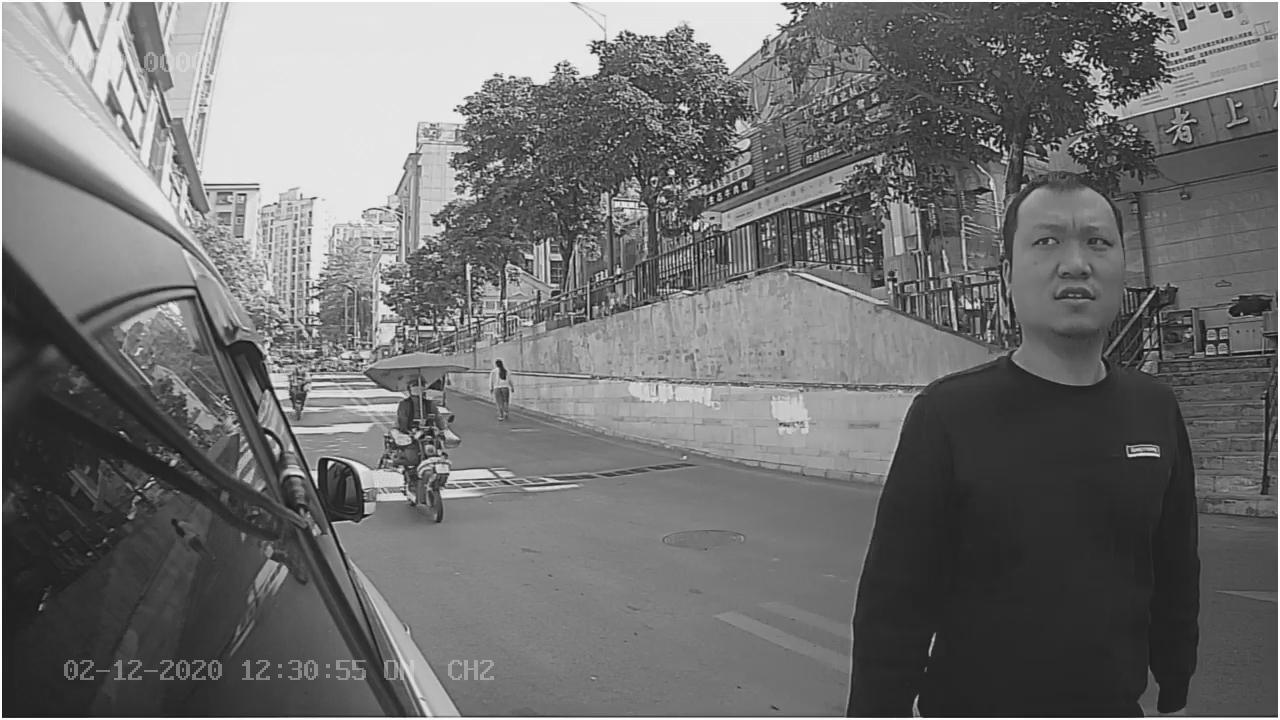person: (852, 168, 1200, 605)
